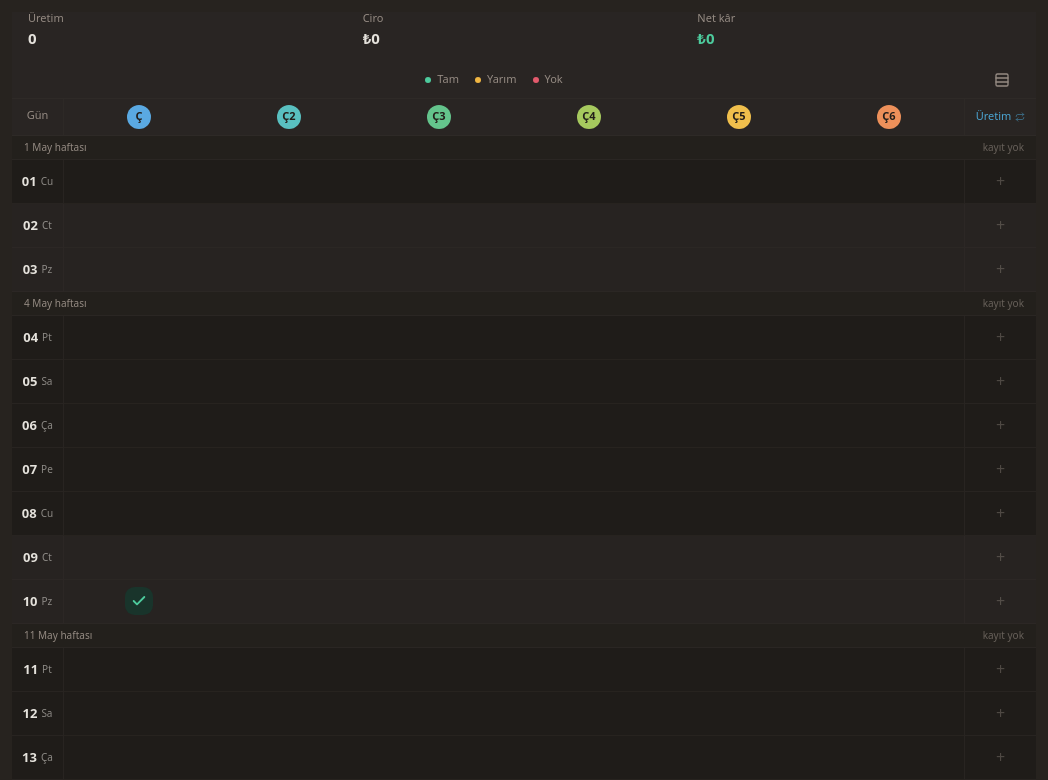
it: CalendarView › hücreye dokununca durum ilerler ve hücrede geri al düğmesi çıkar
The image size is (1048, 780).
Click the button named "Çalışan 1, 10 Mayıs Pazar: Tam": (139, 602) [64,580,214,624]
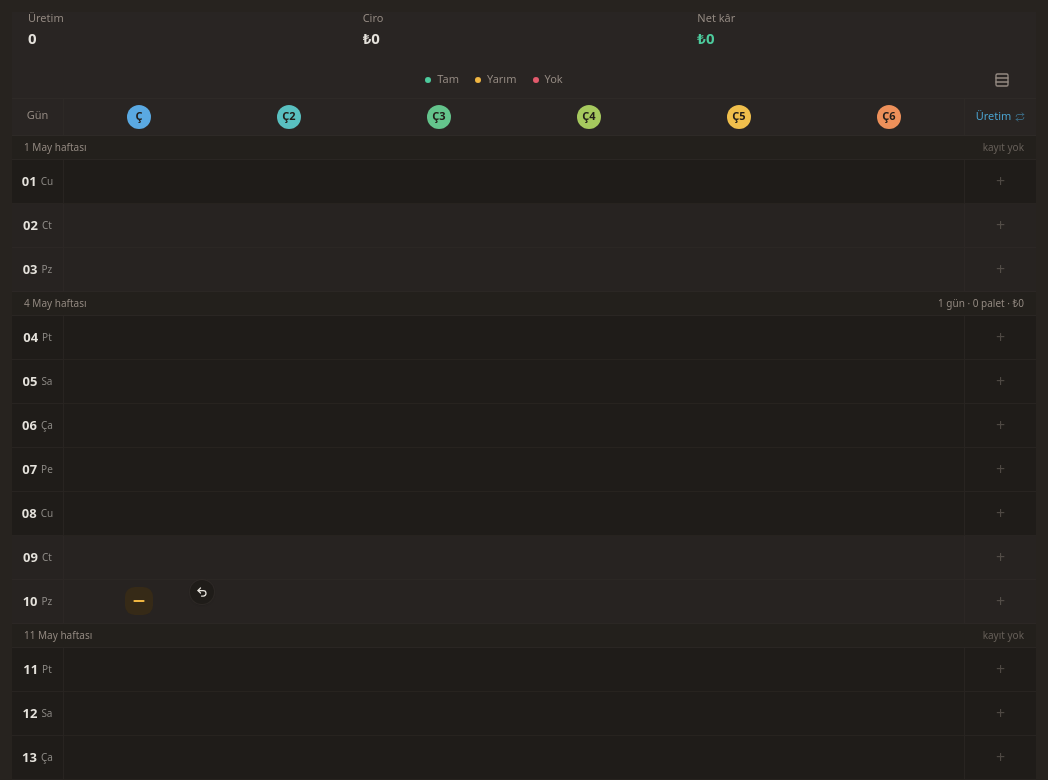
Now the button named "Çalışan 1, 10 Mayıs Pazar: Yarım" is shown, box [64,580,214,624]
Now the button named "Çalışan 1, 10 Mayıs Pazar değişikliğini geri al" is shown, box [190,580,214,604]
